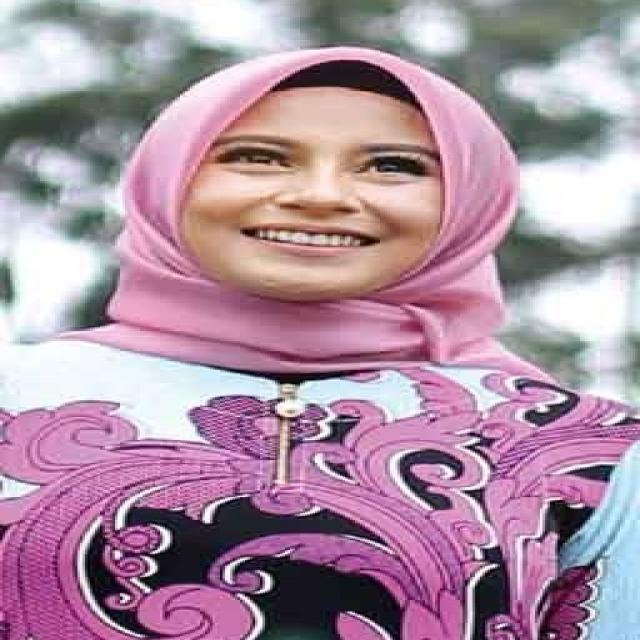head: (157, 46, 524, 312)
